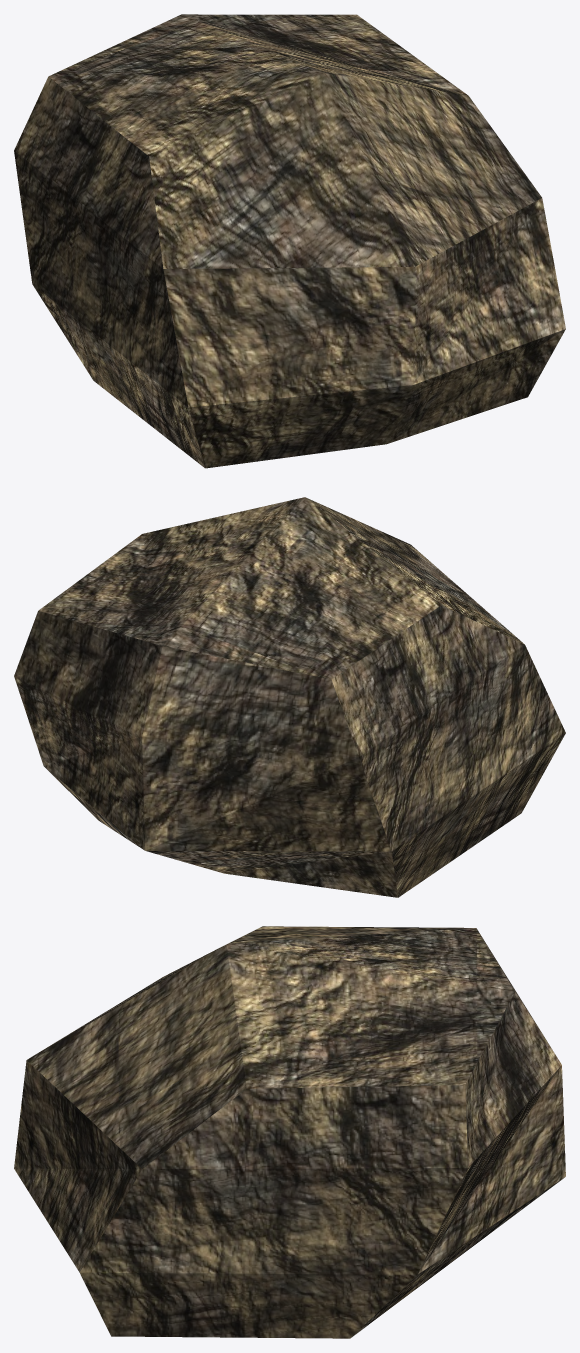
The model's file is rock 1.obj.
The picture shows the model from 3 angles, top to bottom: view 1: azimuth 30°, elevation 25°; view 2: azimuth 150°, elevation 25°; view 3: azimuth 270°, elevation 25°; orthographic projection. The views are drawn at different scales.
Visible parts, largest first — view 1: Cube.005; view 2: Cube.005; view 3: Cube.005.
Part boxes in pixels (x1,y1,x2,y2): Cube.005: [14, 14, 565, 468]; Cube.005: [14, 497, 565, 897]; Cube.005: [14, 926, 565, 1338].
Size of the model in its own units: 1.06 by 0.856 by 1.33.
